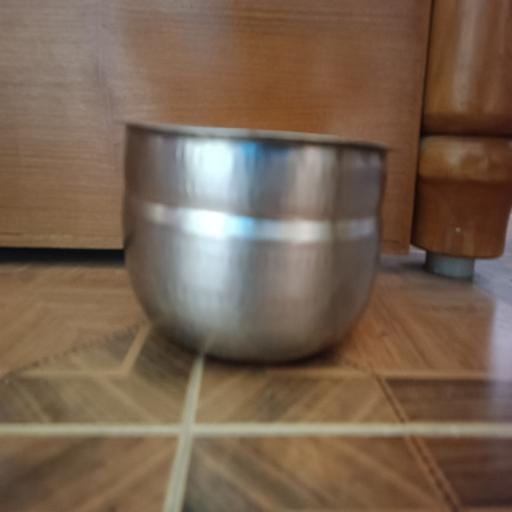vessel: (123, 124, 387, 362)
